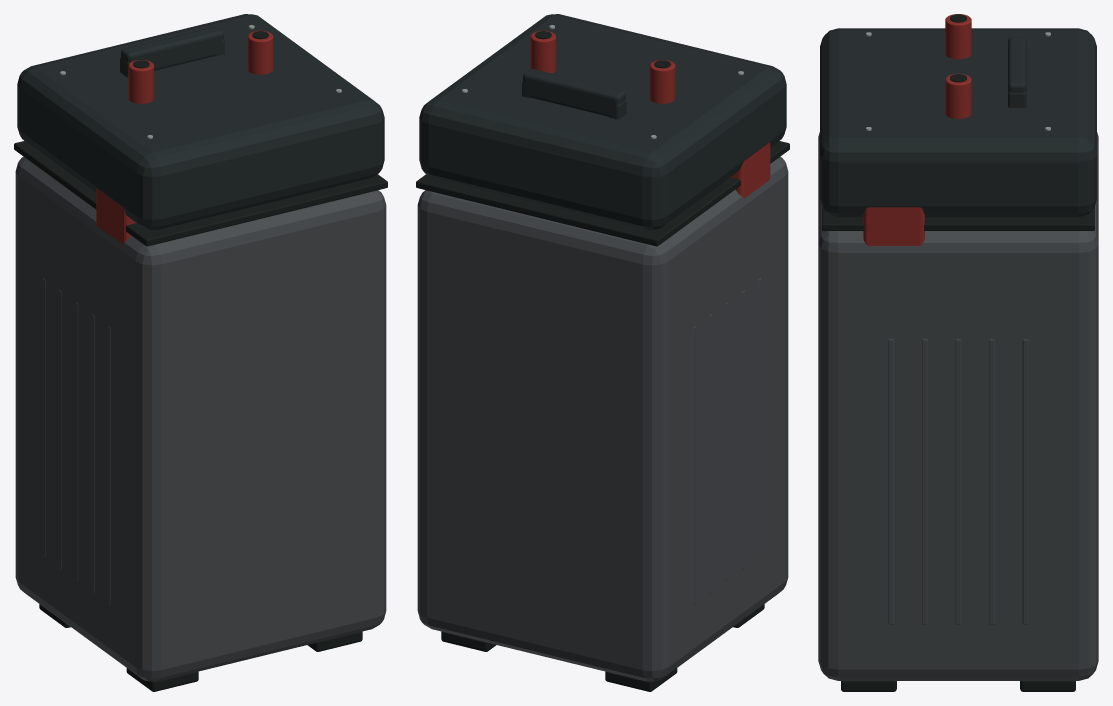
File: filter-fluval-207.glb
The picture shows the model from 3 angles, left to right: view 1: azimuth 30°, elevation 25°; view 2: azimuth 150°, elevation 25°; view 3: azimuth 270°, elevation 25°; orthographic projection. The views are drawn at different scales.
Parts seen in each view (by area): view 1: Fluval 207 Canister Filter · original housing; view 2: Fluval 207 Canister Filter · original housing; view 3: Fluval 207 Canister Filter · original housing.
Part boxes in pixels (x1,y1,x2,y2): Fluval 207 Canister Filter · original housing: [14, 14, 387, 691]; Fluval 207 Canister Filter · original housing: [416, 14, 789, 691]; Fluval 207 Canister Filter · original housing: [818, 14, 1098, 691].
Size of the model in its own units: 0.19 by 0.42 by 0.18.
